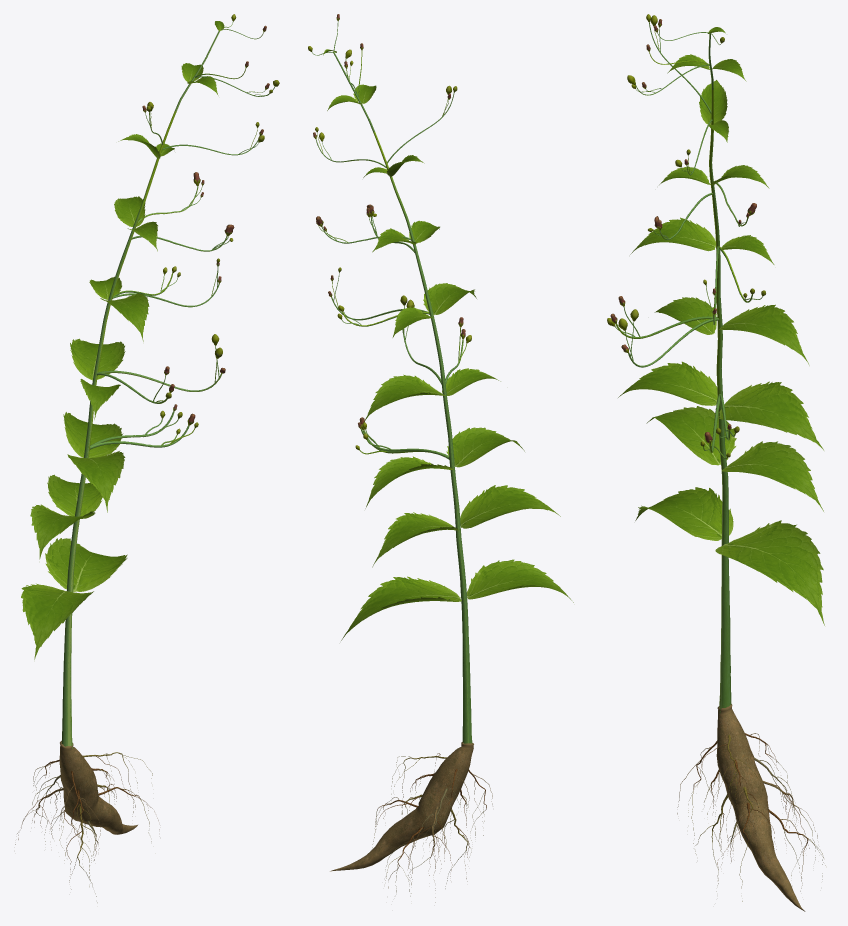
The model's file is changshashen.fbx.
3 views of the same model, side by side, from view 1: azimuth 30°, elevation 25°; view 2: azimuth 150°, elevation 25°; view 3: azimuth 270°, elevation 25° (orthographic). The views are drawn at different scales.
Parts seen in each view (by area): view 1: chang4:ye, chang4:jing, chang3:gen_v3, chang4:hua, chang3:gen; view 2: chang4:ye, chang4:jing, chang3:gen_v3, chang4:hua, chang3:gen; view 3: chang4:ye, chang4:jing, chang3:gen_v3, chang4:hua, chang3:gen, chang3:gen_v2, chang3:gen_v4.
Part boxes in pixels (x1,y1,x2,y2): chang4:ye: (21, 21, 224, 659); chang4:jing: (61, 22, 275, 748); chang3:gen_v3: (15, 741, 148, 889); chang4:hua: (142, 14, 279, 434); chang3:gen: (18, 755, 159, 874); chang4:ye: (323, 49, 573, 640); chang4:jing: (312, 21, 472, 743); chang3:gen_v3: (330, 742, 492, 902); chang4:hua: (308, 14, 471, 450); chang3:gen: (376, 753, 486, 877); chang4:ye: (618, 27, 824, 625); chang4:jing: (615, 22, 762, 713); chang3:gen_v3: (677, 704, 817, 911); chang4:hua: (607, 14, 765, 457); chang3:gen: (693, 733, 809, 875); chang3:gen_v2: (688, 734, 825, 901); chang3:gen_v4: (697, 744, 823, 891).
Size of the model in its own units: 41.45 by 134 by 28.79.
